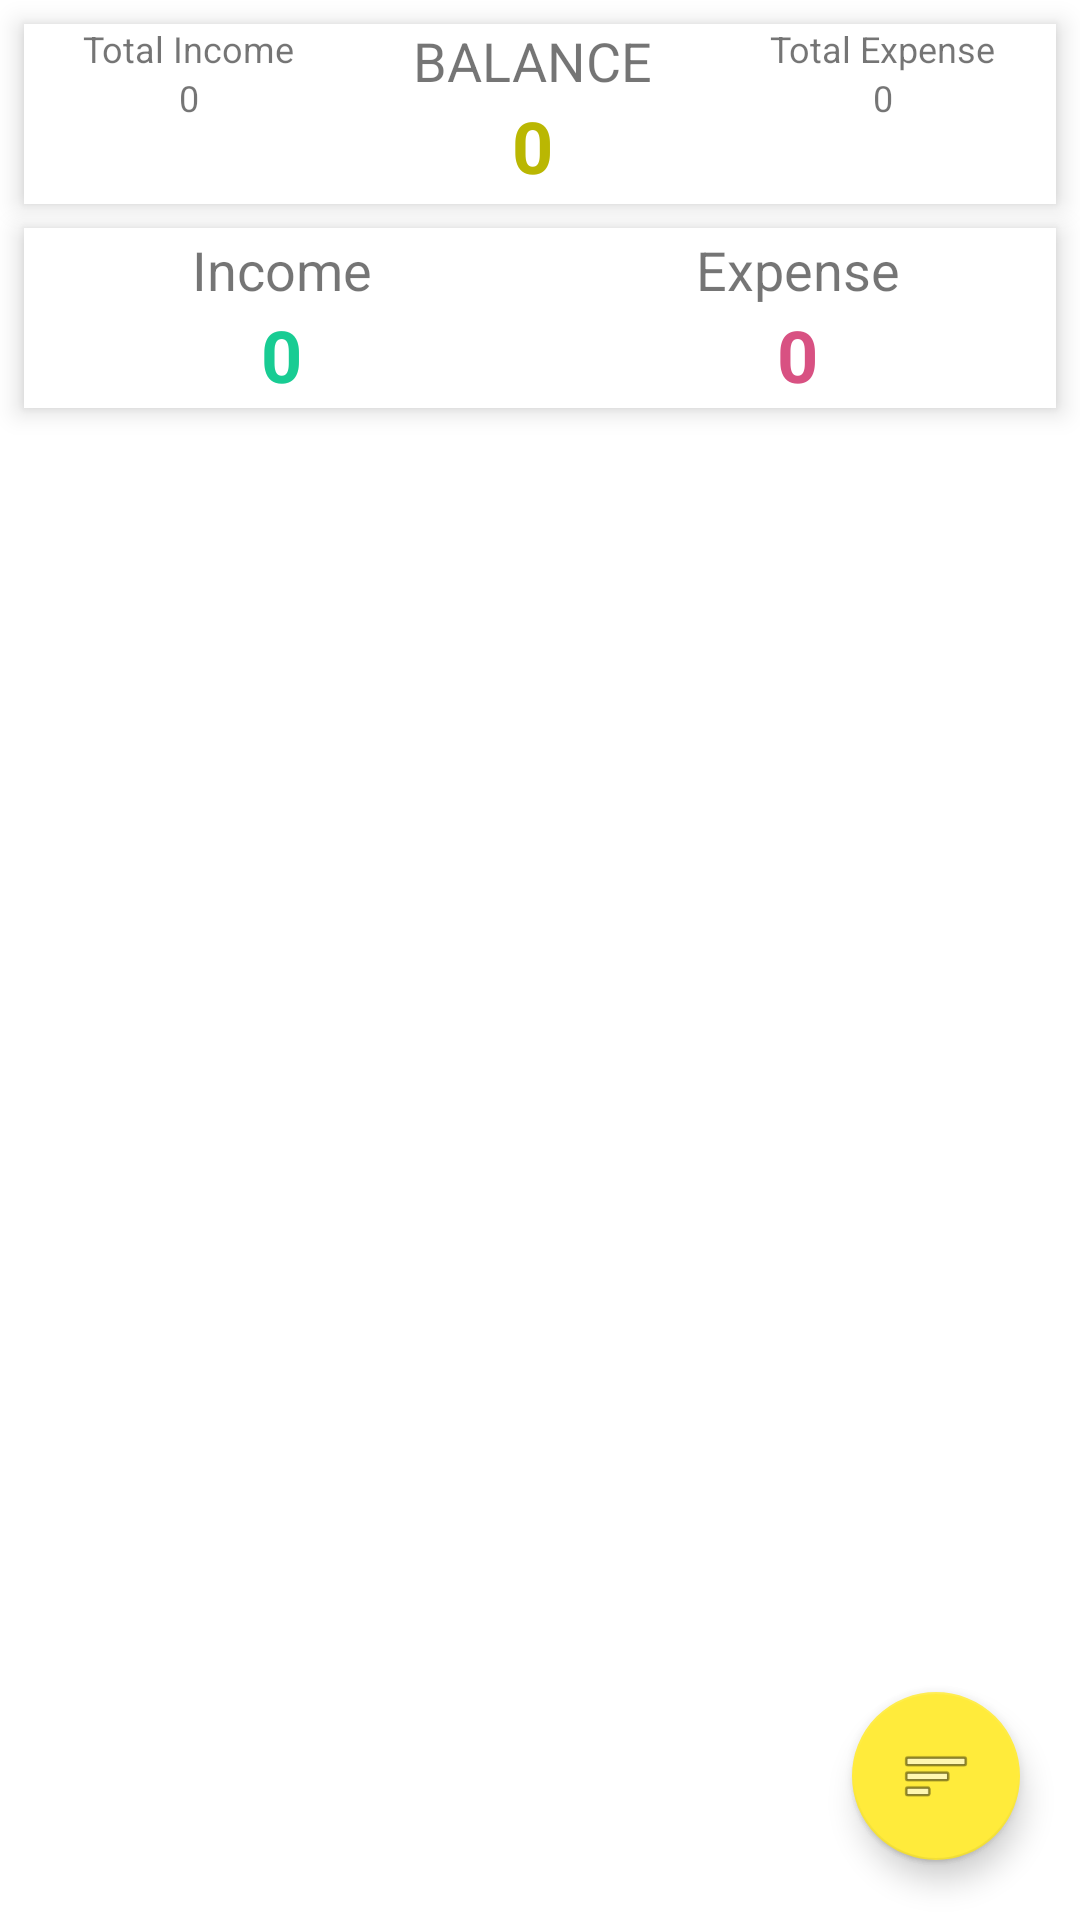

Named icons in this screenshot (1080 × 1920) and their centers, (x=x, y=y):
sort by size: (x=936, y=1776)
